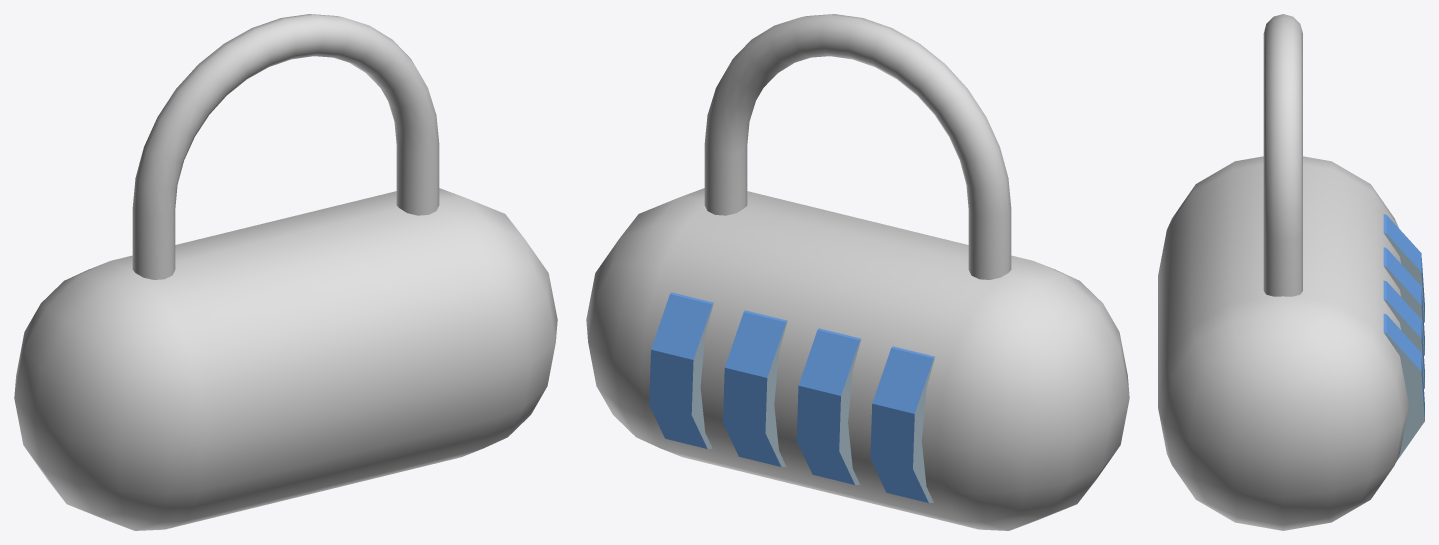
File: Lock.fbx
The picture shows the model from 3 angles, left to right: view 1: azimuth 30°, elevation 25°; view 2: azimuth 150°, elevation 25°; view 3: azimuth 270°, elevation 25°; orthographic projection. The views are drawn at different scales.
Parts seen in each view (by area): view 1: Cube.003, Circle_mesh; view 2: Cube.003, Circle_mesh, Wheel1, Wheel1.003, Wheel1.001, Wheel1.002; view 3: Cube.003, Circle_mesh, Wheel1, Wheel1.001, Wheel1.003, Wheel1.002.
Part boxes in pixels (left/top/right/bottom): Cube.003: left=14, top=188, right=557, bottom=530; Circle_mesh: left=132, top=14, right=439, bottom=279; Cube.003: left=586, top=188, right=1129, bottom=530; Circle_mesh: left=704, top=14, right=1011, bottom=279; Wheel1: left=649, top=292, right=713, bottom=448; Wheel1.003: left=870, top=346, right=934, bottom=502; Wheel1.001: left=723, top=310, right=787, bottom=466; Wheel1.002: left=796, top=328, right=861, bottom=484; Cube.003: left=1158, top=156, right=1408, bottom=530; Circle_mesh: left=1263, top=14, right=1302, bottom=296; Wheel1: left=1383, top=313, right=1424, bottom=461; Wheel1.001: left=1383, top=280, right=1424, bottom=388; Wheel1.003: left=1383, top=214, right=1424, bottom=322; Wheel1.002: left=1383, top=247, right=1424, bottom=355.
Bounding box in the file's own units: 13.84 × 12.13 × 6.87.
